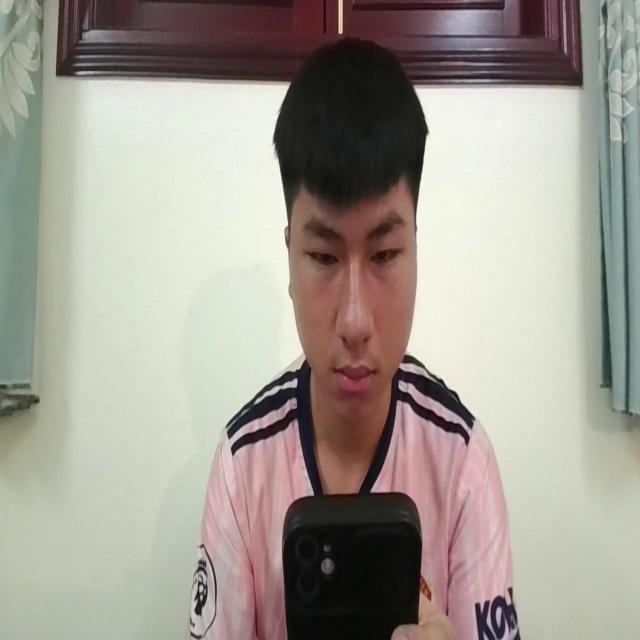phone: (280, 482, 418, 640)
student: (192, 33, 518, 640)
